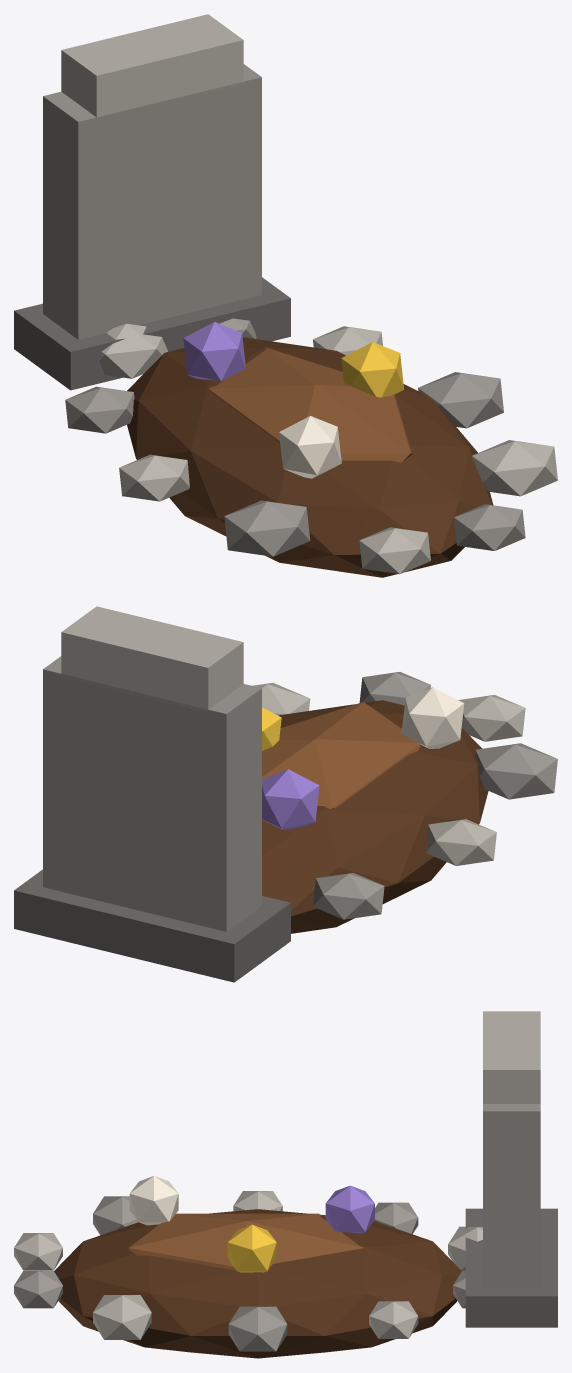
Rendered from grave.glb.
The picture shows the model from 3 angles, top to bottom: view 1: azimuth 30°, elevation 25°; view 2: azimuth 150°, elevation 25°; view 3: azimuth 270°, elevation 25°; orthographic projection. The views are drawn at different scales.
Parts seen in each view (by area): view 1: stone, mound, stone_light, mound_top, headstone_base, flower, flower.002, flower.001; view 2: stone, mound, stone_light, headstone_base, mound_top, flower, flower.002, flower.001; view 3: mound, stone, stone_light, mound_top, headstone_base, flower, flower.001, flower.002.
Boxes of the visible parts, box(x1,y1,x2,y2) form: stone: box(43, 64, 525, 556); mound: box(127, 337, 493, 577); stone_light: box(61, 14, 557, 574); mound_top: box(208, 347, 412, 462); headstone_base: box(14, 277, 290, 390); flower: box(279, 416, 341, 478); flower.002: box(183, 322, 245, 380); flower.001: box(341, 342, 403, 397); stone: box(43, 656, 557, 931); mound: box(262, 700, 488, 933); stone_light: box(61, 606, 525, 865); headstone_base: box(14, 869, 290, 982); mound_top: box(262, 702, 420, 809); flower: box(401, 687, 464, 748); flower.002: box(262, 769, 319, 830); flower.001: box(262, 707, 281, 750); mound: box(54, 1209, 461, 1358); stone: box(14, 1104, 540, 1351); stone_light: box(14, 1011, 540, 1339); mound_top: box(128, 1213, 363, 1270); headstone_base: box(465, 1208, 557, 1327); flower: box(129, 1176, 178, 1225); flower.001: box(227, 1224, 276, 1272); flower.002: box(325, 1185, 374, 1233).
Bounding box in the file's own units: 0.6181 × 0.567 × 0.943.
